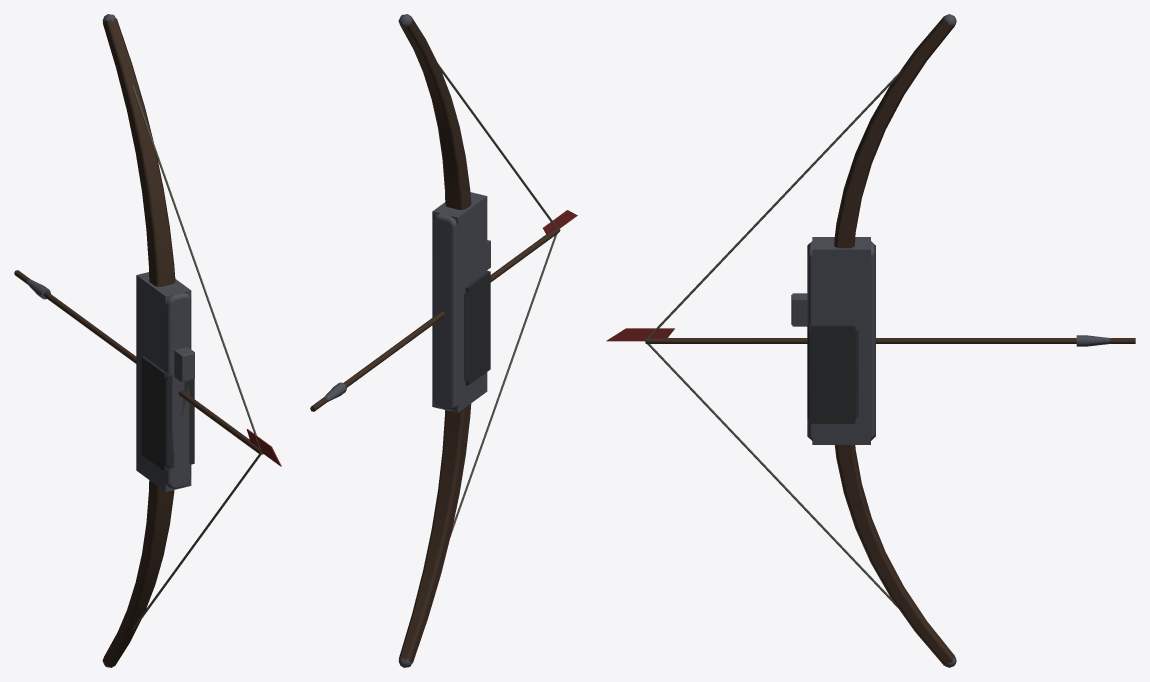
File: bw_recurve.glb
3 renders of one model, left to right at view 1: azimuth 30°, elevation 25°; view 2: azimuth 150°, elevation 25°; view 3: azimuth 270°, elevation 25°, orthographic.
Parts seen in each view (by area): view 1: L0, L1; view 2: L0, L1; view 3: L0, L1.
Boxes of the visible parts, left/top/right/bottom form: L0: left=14, top=14, right=281, bottom=667; L1: left=28, top=14, right=261, bottom=667; L0: left=310, top=14, right=577, bottom=667; L1: left=325, top=14, right=557, bottom=667; L0: left=606, top=14, right=1135, bottom=667; L1: left=645, top=14, right=1108, bottom=667.
Size of the model in its own units: 0.036 by 0.735 by 0.54.
